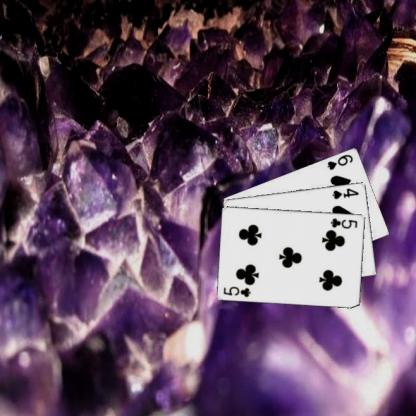4S: (330, 186, 360, 200)
5C: (328, 215, 359, 229), (221, 284, 252, 298)
6S: (324, 152, 354, 170)
